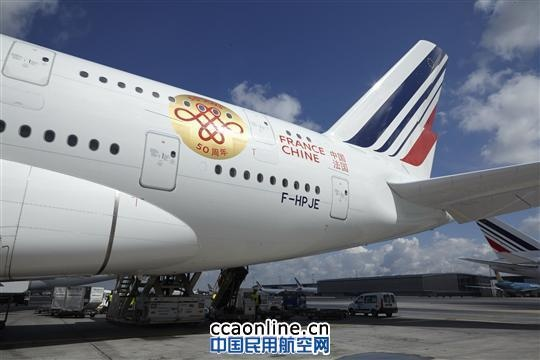airplane: (3, 36, 476, 302)
